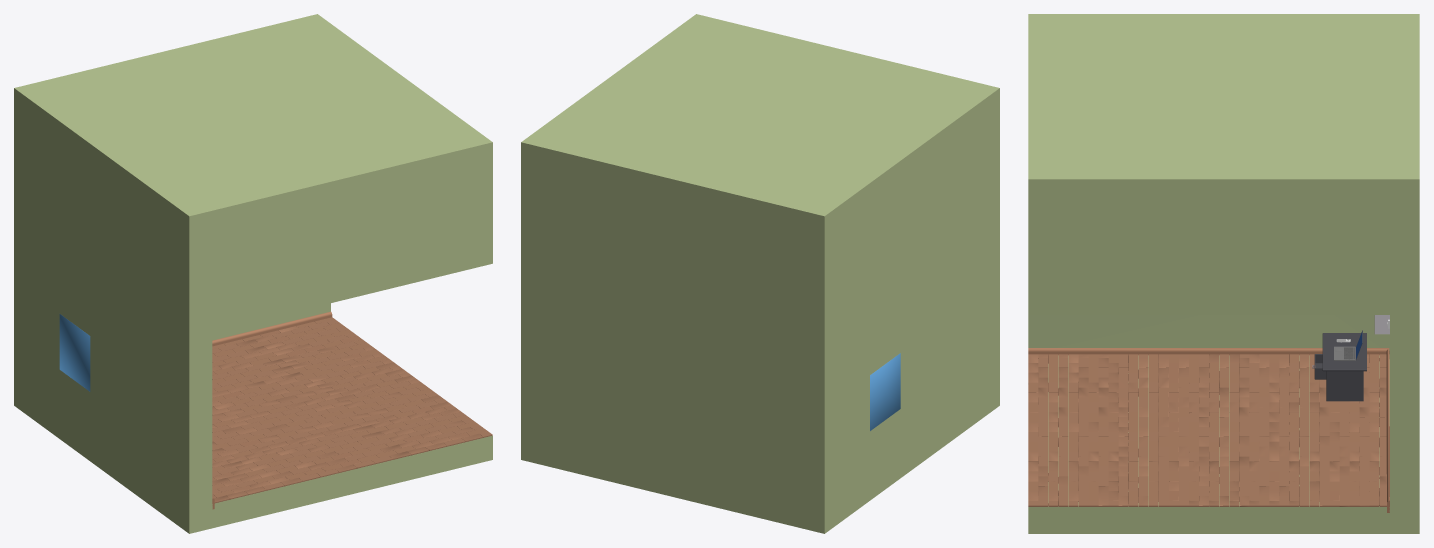
Rendered from room_v8.glb.
The picture shows the model from 3 angles, left to right: view 1: azimuth 30°, elevation 25°; view 2: azimuth 150°, elevation 25°; view 3: azimuth 270°, elevation 25°; orthographic projection. The views are drawn at different scales.
Parts seen in each view (by area): view 1: walls, floor_big, window, floor_trim; view 2: walls, window; view 3: walls, floor_big, floor_trim, Plane.006.
Part boxes in pixels (x1,y1,x2,y2): walls: (14,14,492,533); floor_big: (212,317,492,503); window: (59,314,90,391); floor_trim: (212,311,332,509); walls: (521,14,999,533); window: (870,353,900,430); walls: (1028,14,1419,533); floor_big: (1028,354,1386,506); floor_trim: (1028,348,1389,512); Plane.006: (1314,333,1366,401).
Bounding box in the file's own units: 7.97 × 7.97 × 7.97.
